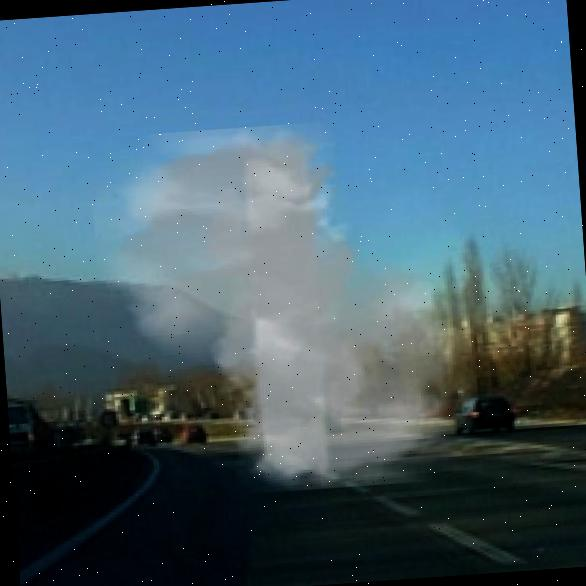smoke: (88, 112, 483, 503)
